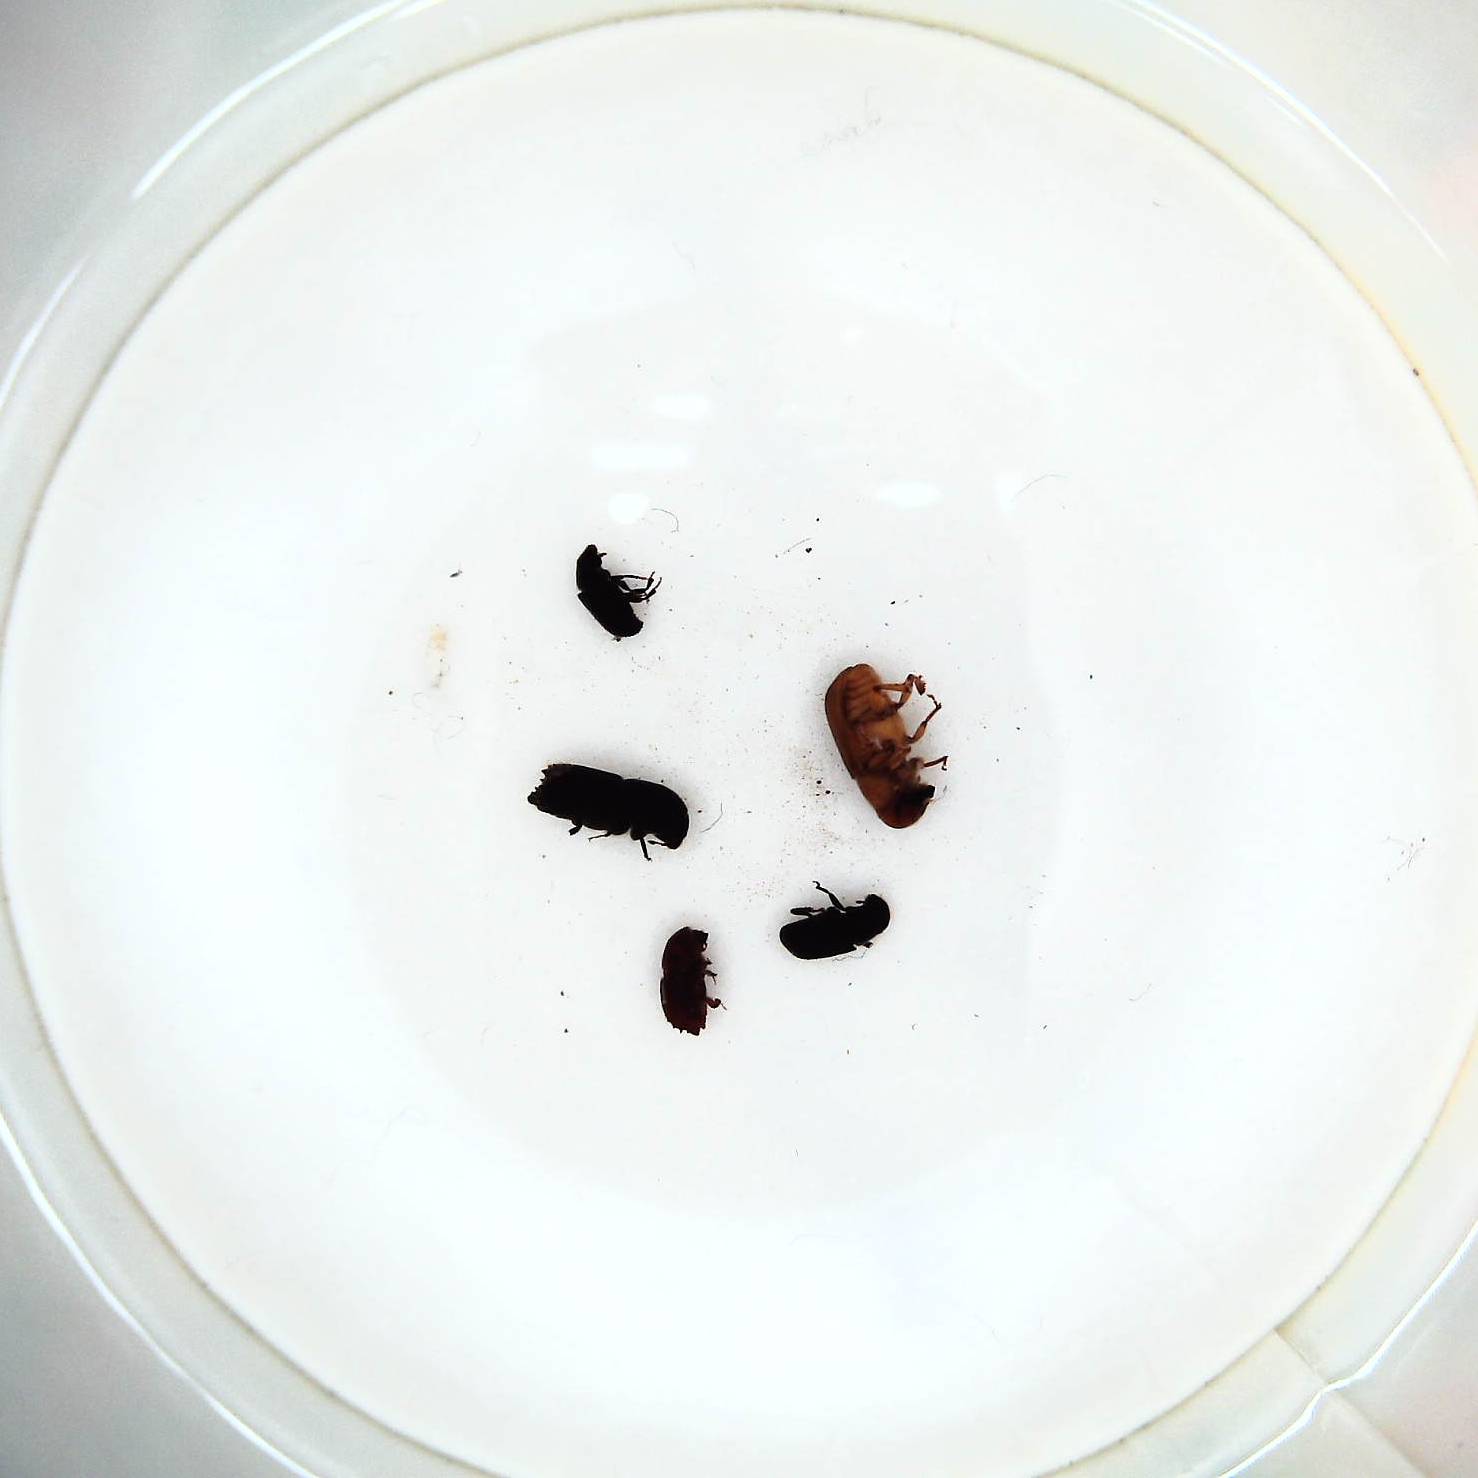Boerner: (522, 757, 694, 864)
Leconte: (822, 659, 951, 836)
armandi: (777, 878, 889, 961)
coleoptera: (568, 539, 660, 644)
linnaeus: (656, 927, 723, 1042)
